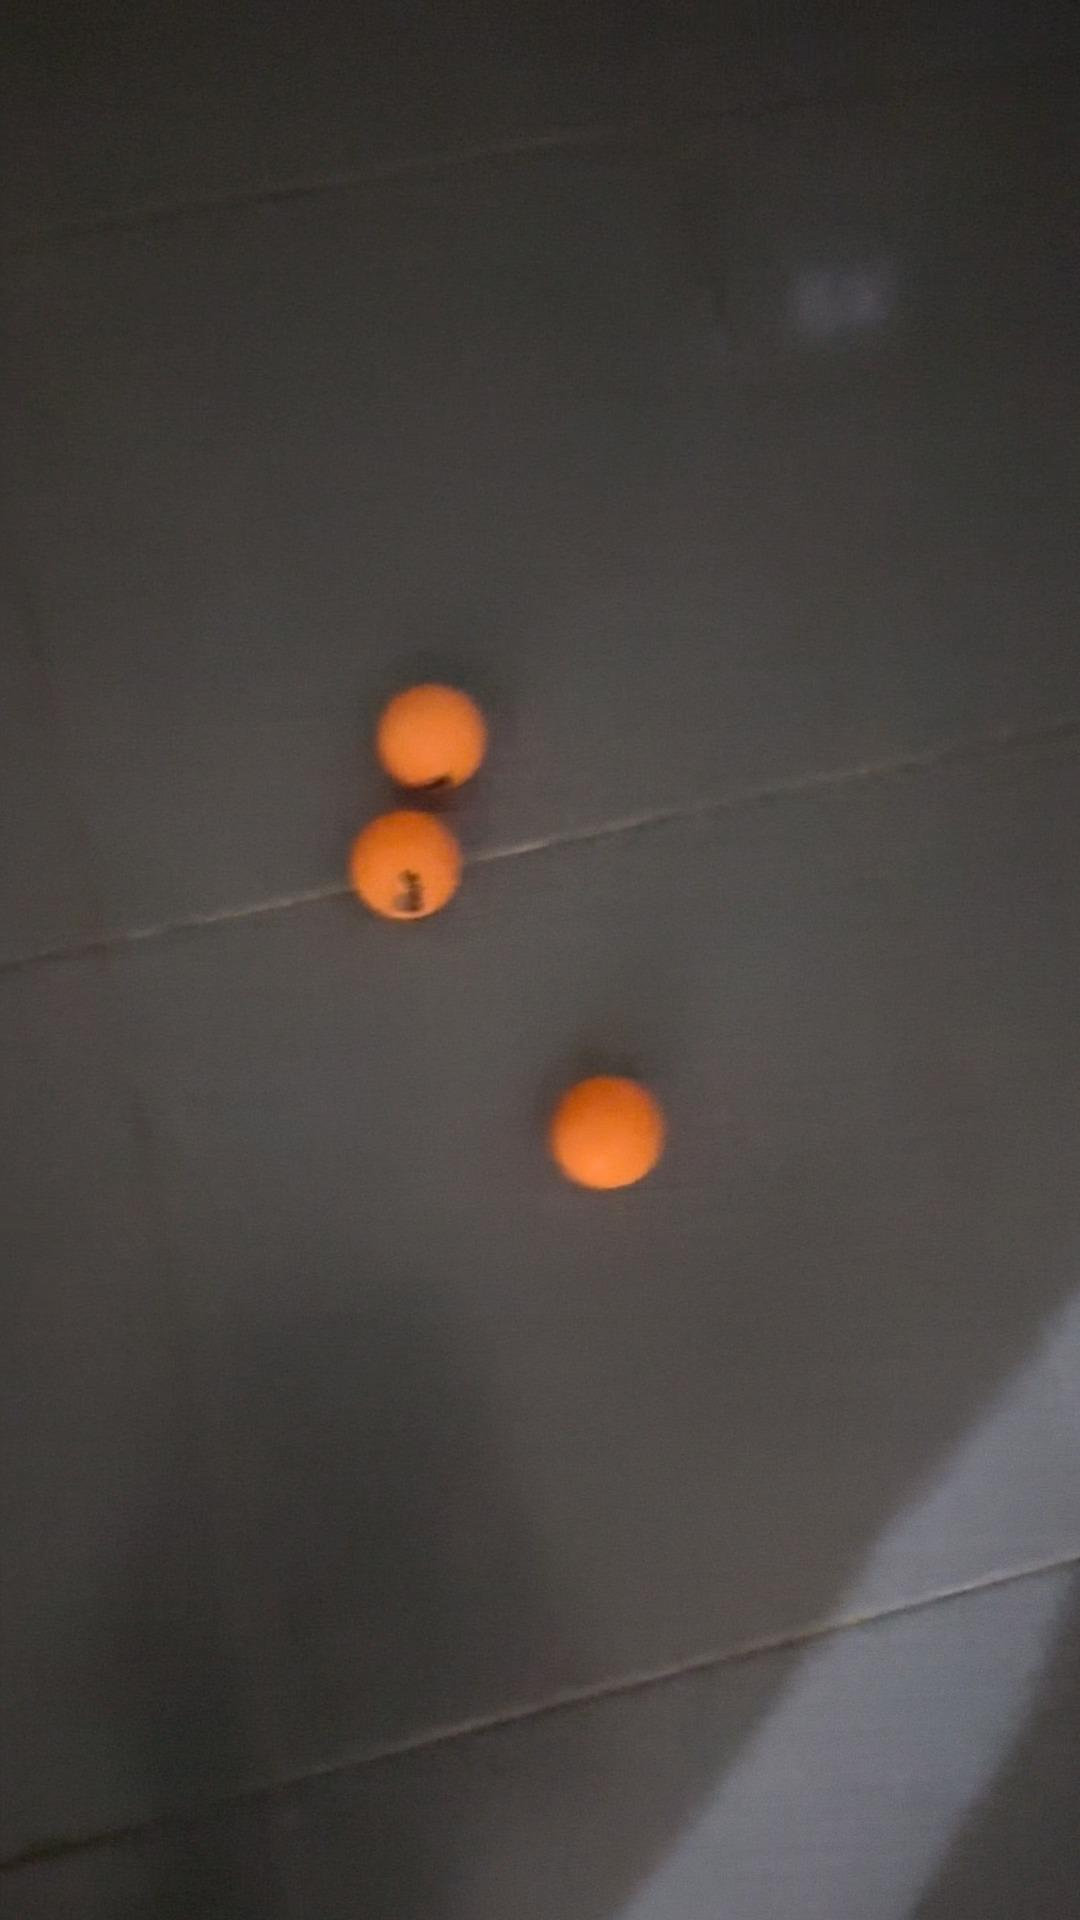oball: (335, 787, 480, 926), (364, 665, 497, 799), (545, 1071, 669, 1207)
